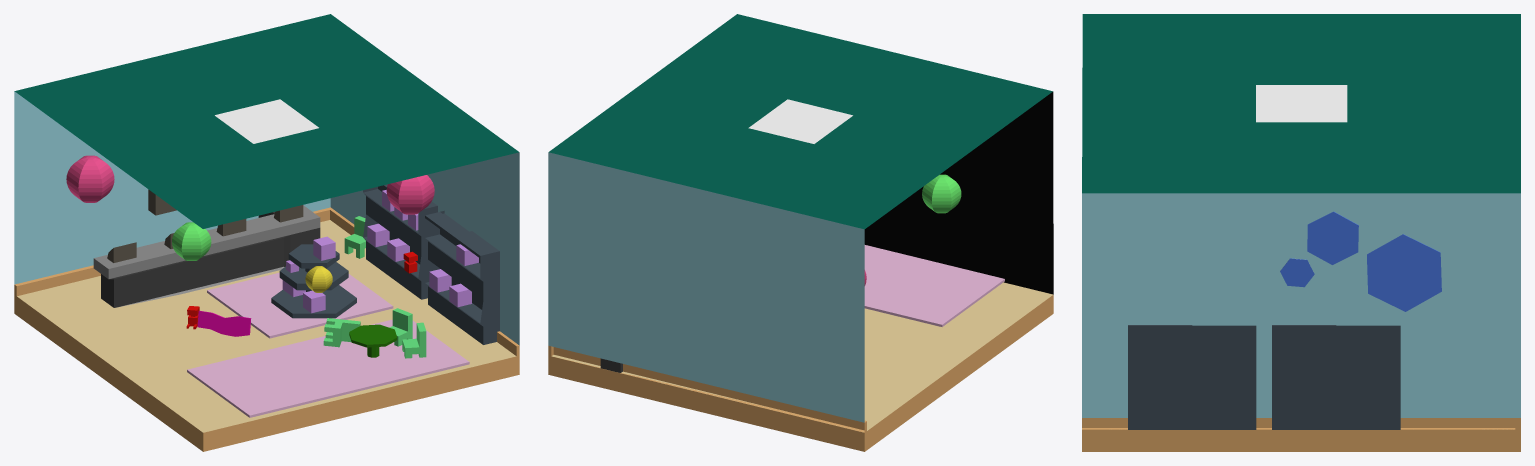
Rendered from diorama.fbx.
3 views of the same model, side by side, from view 1: azimuth 30°, elevation 25°; view 2: azimuth 150°, elevation 25°; view 3: azimuth 270°, elevation 25° (orthographic). The views are drawn at different scales.
Visible parts, largest first — view 1: Cube, Plane.002, Cube.002, Cube.026, Plane, Cube.006, Circle.001, Sphere.007, Sphere.004, Sphere.008, Cylinder, Plane.001 (+5 smaller); view 2: Cube, Plane.002, Sphere.008; view 3: Cube, Cube.006, Cube.026, Circle.002, Circle.005, Circle.003.
Boxes of the visible parts, left/top/right/bottom form: Cube: left=14, top=14, right=519, bottom=451; Plane.002: left=187, top=319, right=469, bottom=417; Cube.002: left=93, top=205, right=320, bottom=307; Cube.026: left=425, top=210, right=499, bottom=344; Plane: left=207, top=272, right=393, bottom=338; Cube.006: left=363, top=184, right=437, bottom=299; Circle.001: left=271, top=244, right=356, bottom=318; Sphere.007: left=66, top=155, right=114, bottom=202; Sphere.004: left=386, top=175, right=434, bottom=214; Sphere.008: left=172, top=222, right=211, bottom=260; Cylinder: left=349, top=324, right=397, bottom=357; Plane.001: left=197, top=310, right=251, bottom=336; Cube: left=548, top=14, right=1053, bottom=451; Plane.002: left=864, top=245, right=1004, bottom=326; Sphere.008: left=922, top=174, right=961, bottom=213; Cube: left=1082, top=14, right=1520, bottom=451; Cube.006: left=1272, top=325, right=1400, bottom=429; Cube.026: left=1128, top=325, right=1256, bottom=429; Circle.002: left=1367, top=234, right=1441, bottom=311; Circle.005: left=1307, top=211, right=1358, bottom=264; Circle.003: left=1280, top=258, right=1314, bottom=287.
Size of the model in its own units: 327 by 219 by 337.
